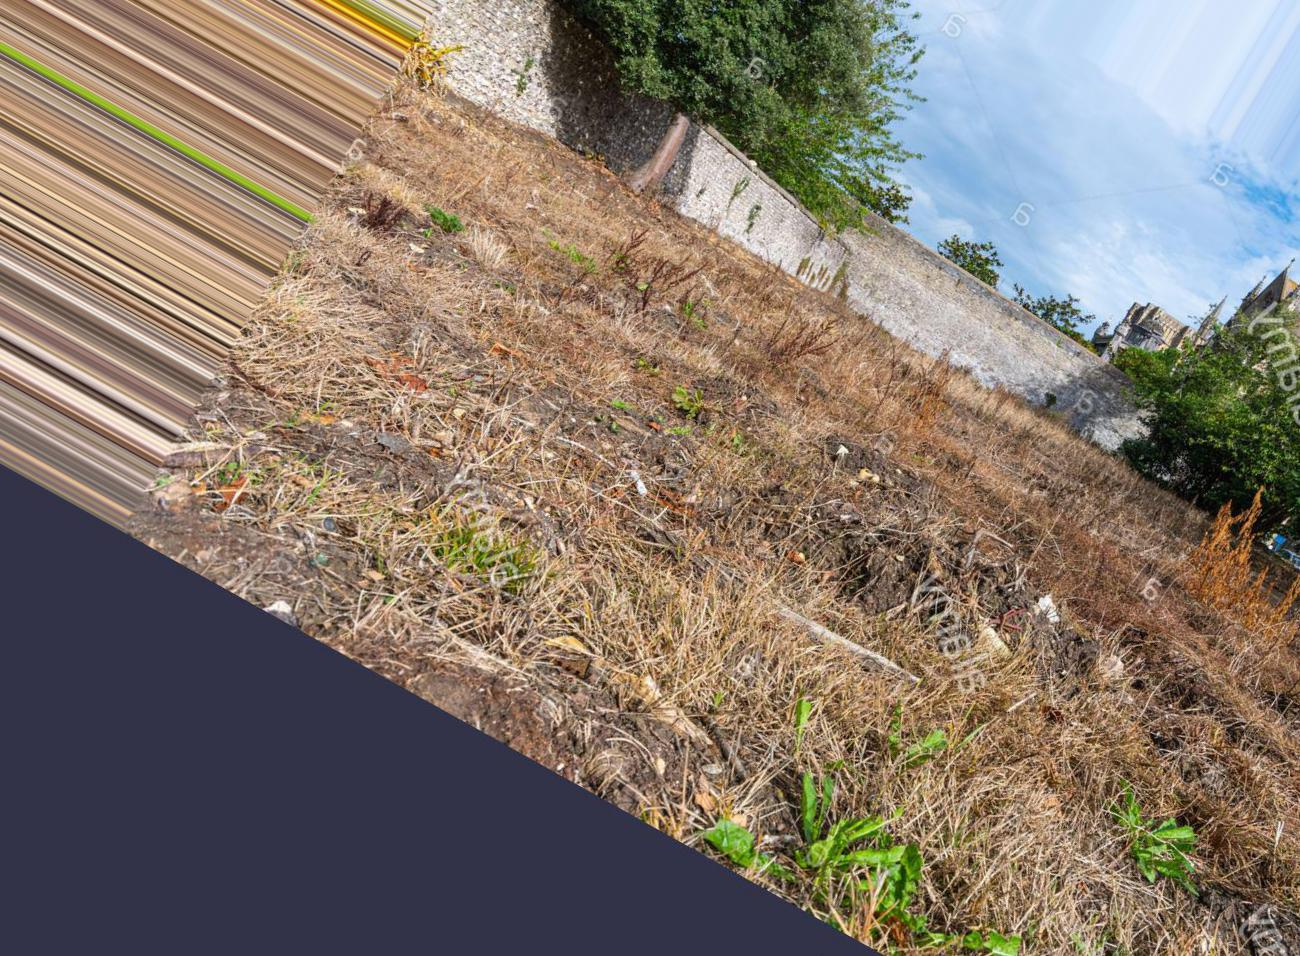patch: (340, 437, 833, 630), (913, 589, 1103, 726), (401, 281, 617, 385), (419, 162, 600, 270), (760, 332, 970, 415), (976, 784, 1129, 888)
